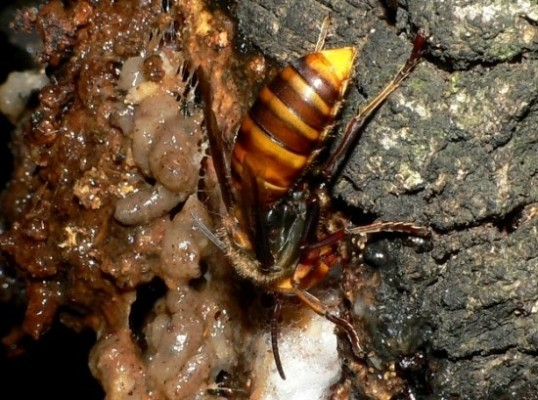asian_giant_hornet: (194, 24, 431, 378)
